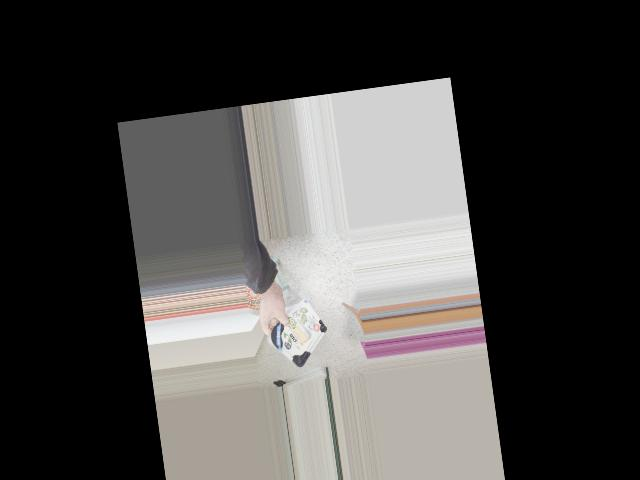cheese: (251, 305, 333, 363)
